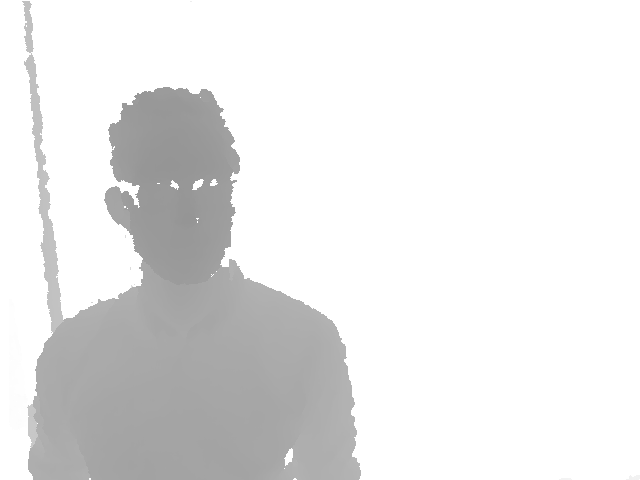head: (102, 86, 241, 286)
person: (26, 85, 365, 480)
